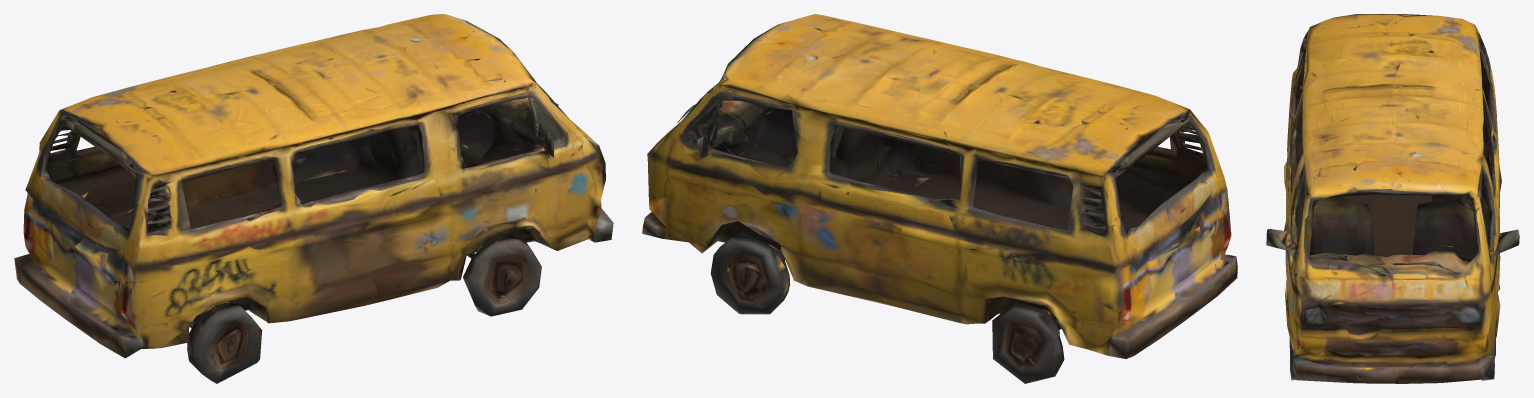
Rendered from lagos_danfo_bus_opt.glb.
3 views of the same model, side by side, from view 1: azimuth 30°, elevation 25°; view 2: azimuth 150°, elevation 25°; view 3: azimuth 270°, elevation 25° (orthographic). The views are drawn at different scales.
Parts seen in each view (by area): view 1: Object_4; view 2: Object_4; view 3: Object_4.
Part boxes in pixels (x1,y1,x2,y2): Object_4: (14, 14, 613, 383); Object_4: (642, 14, 1237, 383); Object_4: (1266, 14, 1519, 383).
Size of the model in its own units: 2 by 0.8892 by 0.9516.
Materials: 1 (1 with a texture image).
